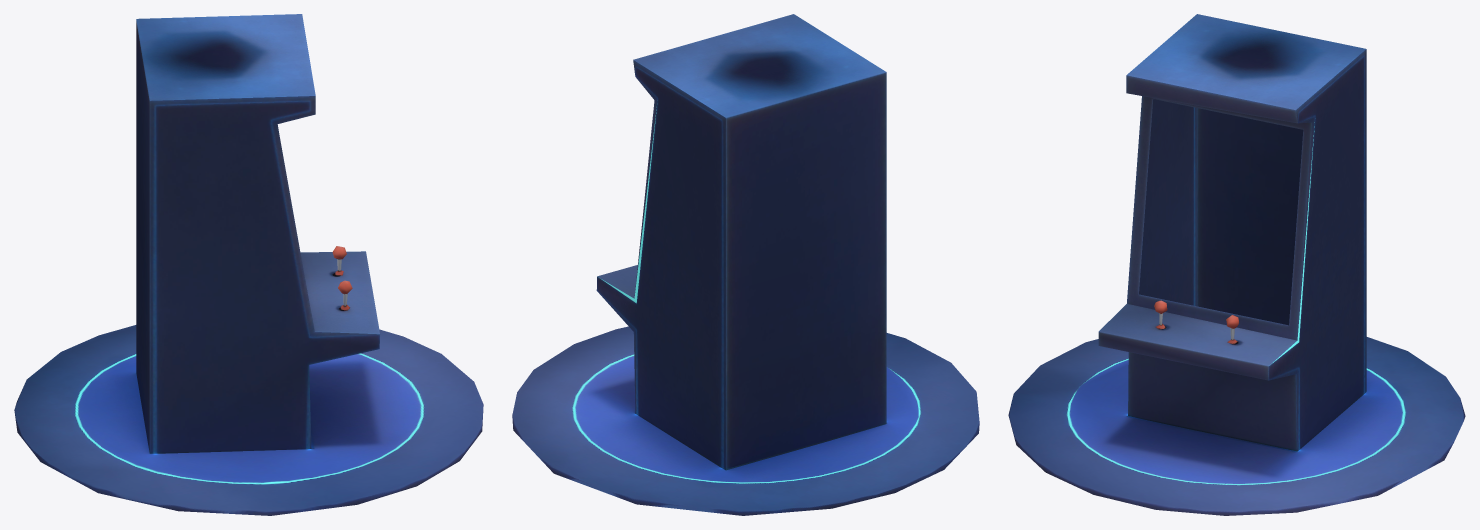
File: GameStation_LOD4.glb
The picture shows the model from 3 angles, left to right: view 1: azimuth 30°, elevation 25°; view 2: azimuth 150°, elevation 25°; view 3: azimuth 270°, elevation 25°; orthographic projection. The views are drawn at different scales.
Visible parts, largest first — view 1: Game Station_PROCESSED.001_LOD4; view 2: Game Station_PROCESSED.001_LOD4; view 3: Game Station_PROCESSED.001_LOD4.
Part boxes in pixels (<box>): Game Station_PROCESSED.001_LOD4: <box>14,14,483,515</box>; Game Station_PROCESSED.001_LOD4: <box>512,14,979,515</box>; Game Station_PROCESSED.001_LOD4: <box>1008,14,1465,515</box>.
Bounding box in the file's own units: 4.11 × 3.47 × 4.12.
1 material, 1 textured.
